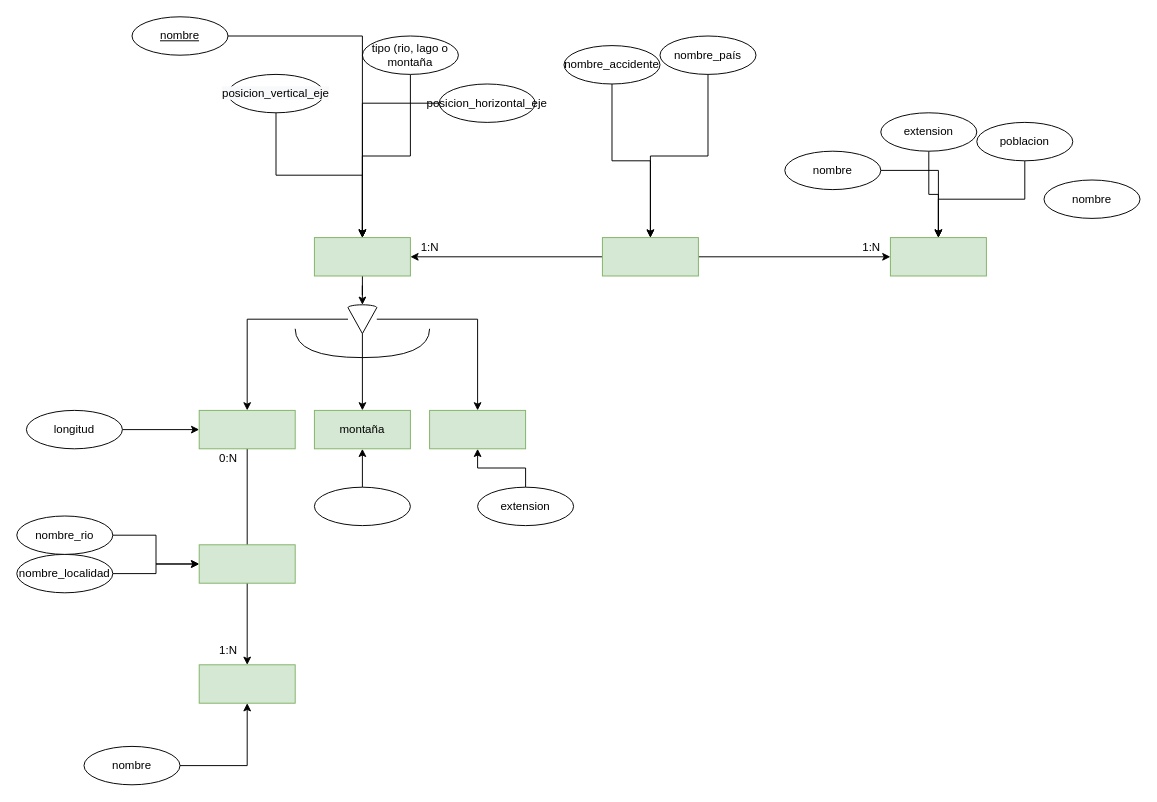
This 1157x802 diagram has some shape labels left out. The box of each missing label's shape, as (x1, y1, x2, y2) in pixels:
accidente geografico: (313, 237, 410, 276)
accidente-pais: (601, 237, 698, 276)
altura: (313, 486, 410, 526)
lago: (429, 409, 526, 449)
localidad: (198, 664, 295, 703)
pais: (889, 237, 986, 276)
rio: (198, 409, 295, 449)
rio_localidad: (198, 544, 295, 583)
